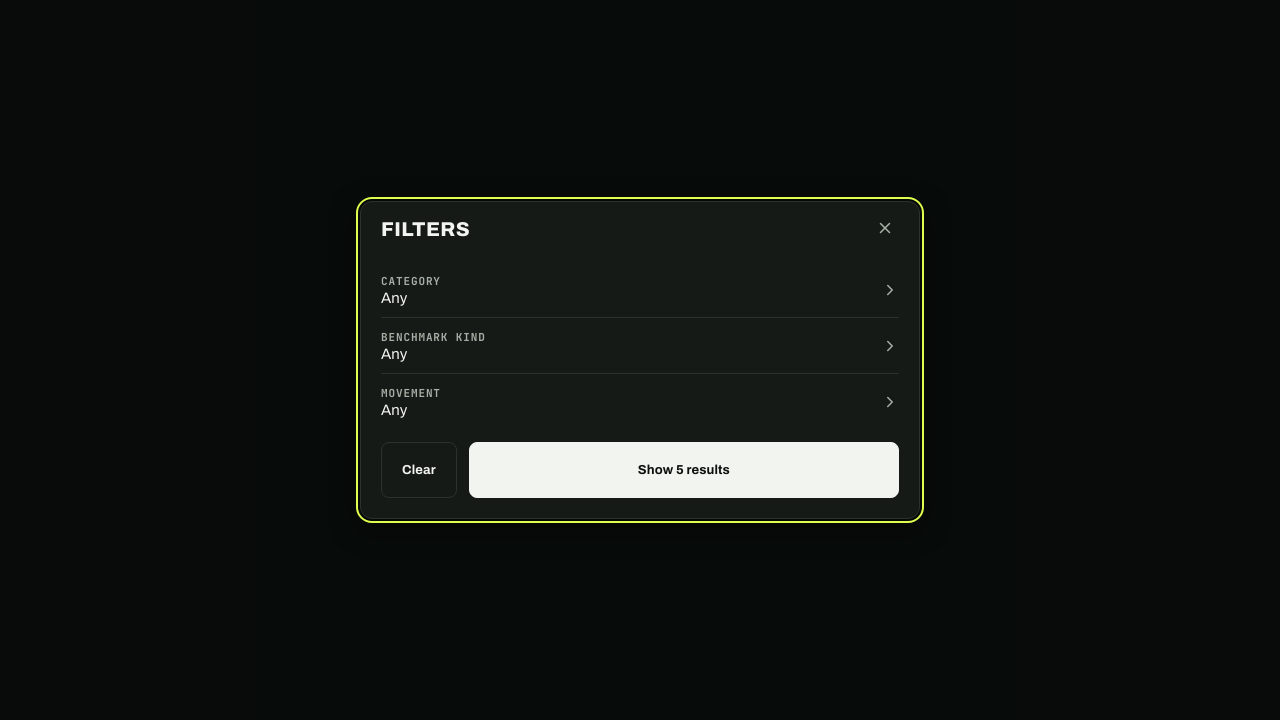
Test: FilterSheetComponent › single facet: tapping an option selects it and returns to the menu
Click the button "Category Any".
click(411, 280)  # box left=381, top=262, right=899, bottom=318
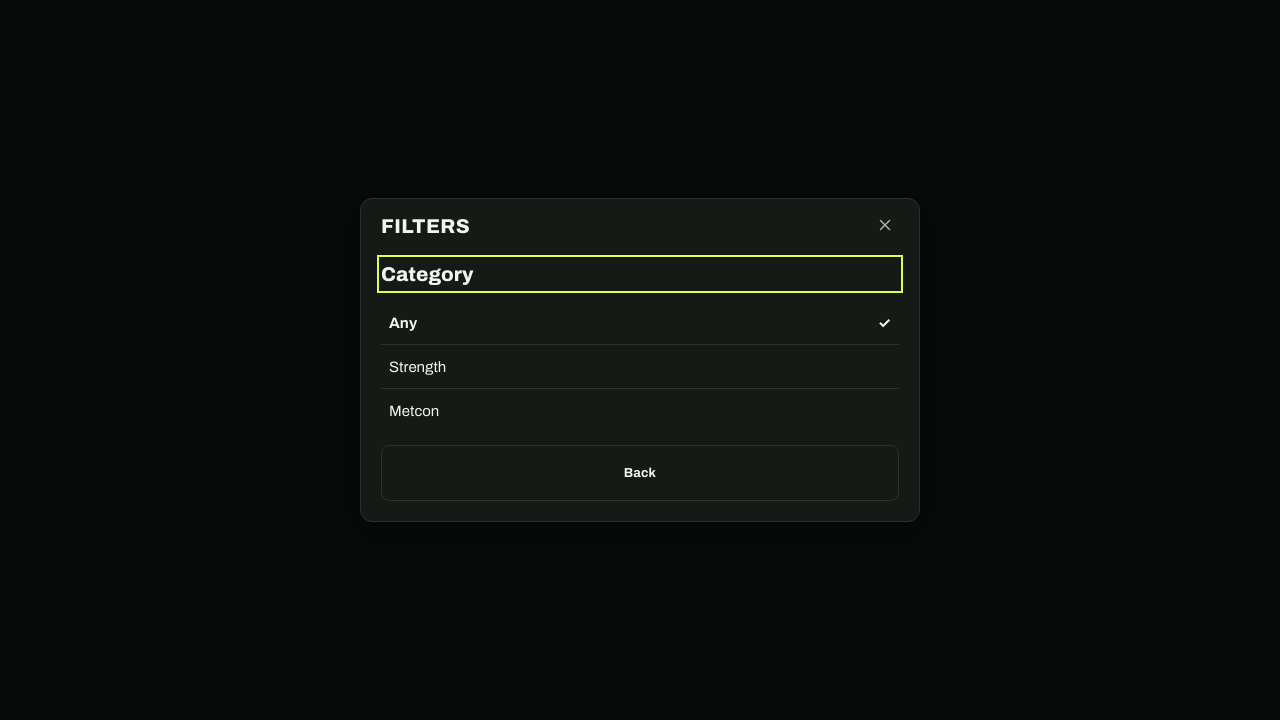
Check: the element with test id "filter-step-category" is shown, box left=381, top=259, right=899, bottom=501
Click the radio button labelled "Strength".
click(418, 366)  # box left=381, top=345, right=899, bottom=389
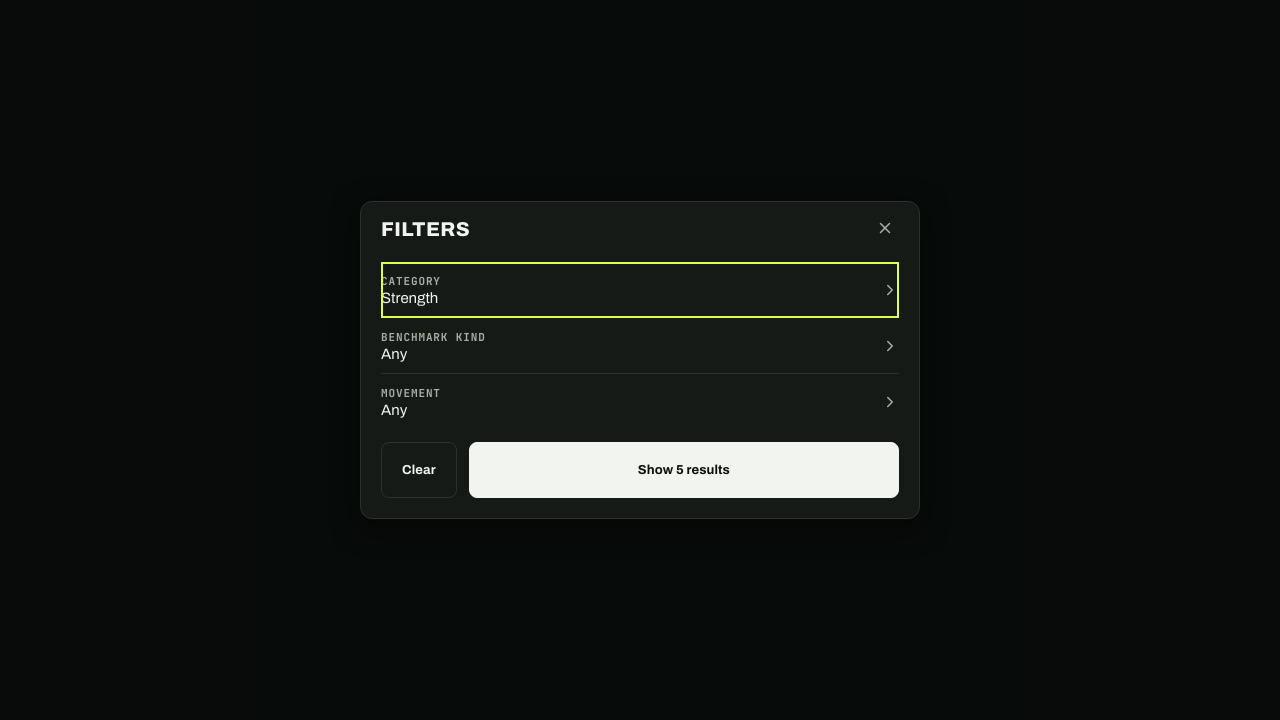
Check: the element with test id "filter-step-category" is gone
Check: the element with test id "filter-menu" is shown, box left=381, top=262, right=899, bottom=430
